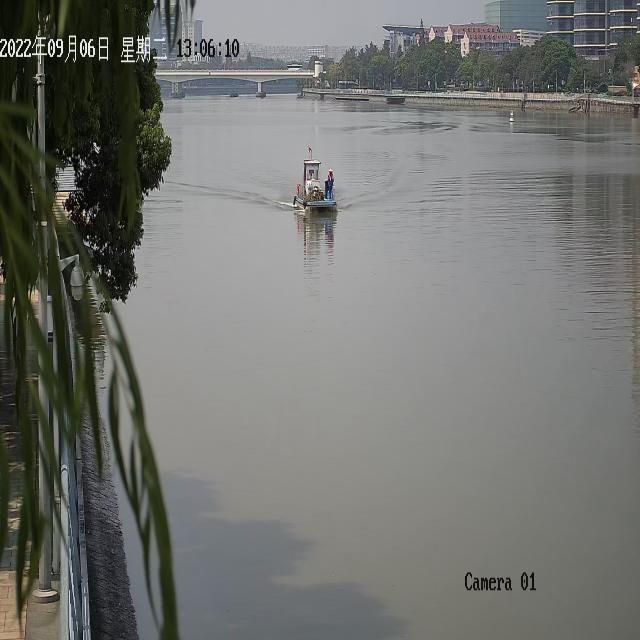ship: (292, 140, 336, 212), (229, 88, 238, 96)
